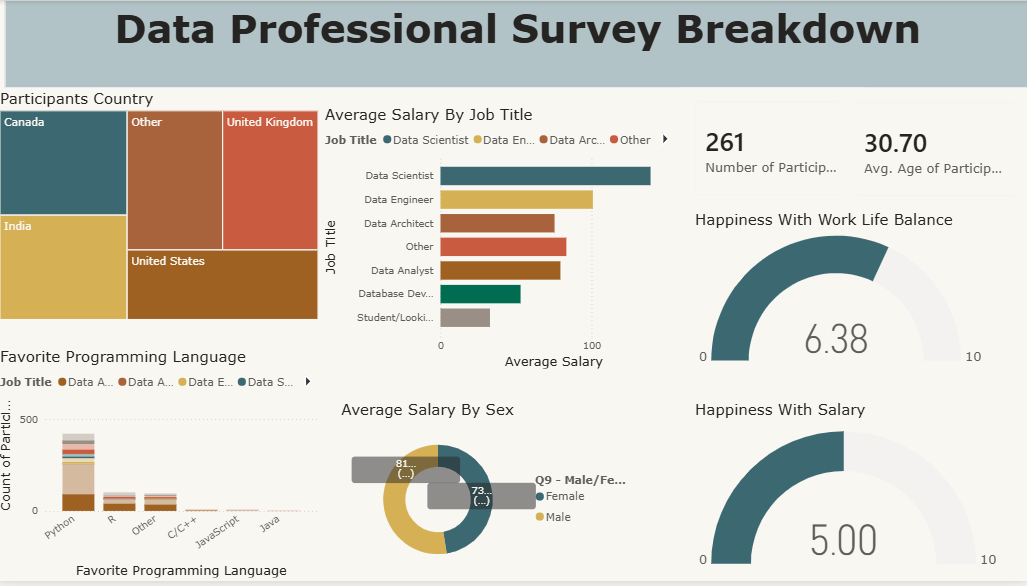

The page's visual inventory and layout, read from the dashboard file:
{"tool":"powerbi","page":{"name":"Page 1","canvas":[1280,720],"ordinal":0},"visuals":[{"type":"textbox","box":[10.2,0,1270.1,109.1],"z":0},{"type":"cardVisual","fields":{"Data":["Count(Data Professional Survey.Unique ID)"]},"box":[848.4,108.4,227.6,150.2],"z":1},{"type":"cardVisual","fields":{"Data":["Avg(Data Professional Survey.Q10 - Current Age)"]},"box":[1045,109.9,235.3,150.2],"z":2},{"type":"barChart","title":"Average Salary By Job Title","fields":{"Category":["Data Professional Survey.Q1 - Which Title Best Fits your Current Role?.1"],"Y":["Avg(Data Professional Survey.Average Salary)"],"Series":["Data Professional Survey.Q1 - Which Title Best Fits your Current Role?.1"]},"box":[402.5,130,445.9,331.3],"z":3},{"type":"columnChart","title":"Favorite Programming Language","fields":{"Category":["Data Professional Survey.Q5 - Favorite Programming Language.1"],"Y":["CountNonNull(Data Professional Survey.Unique ID)"],"Series":["Data Professional Survey.Q1 - Which Title Best Fits your Current Role?.1"]},"box":[0,430.4,402.5,289.5],"z":4},{"type":"treemap","title":"Participants Country","fields":{"Values":["Count(Data Professional Survey.Q11 - Which Country do you live in?.1)"],"Details":["Data Professional Survey.Q11 - Which Country do you live in?.1"]},"box":[0,109.9,404.1,291.1],"z":6},{"type":"gauge","title":"Happiness With Work Life Balance","fields":{"Y":["Avg(Data Professional Survey.Q6 - How Happy are you in your Current Position with the following? (Work/Life Balance))"],"MinValue":["Min(Data Professional Survey.Q6 - How Happy are you in your Current Position with the following? (Work/Life Balance))1"],"MaxValue":["Max(Data Professional Survey.Q6 - How Happy are you in your Current Position with the following? (Work/Life Balance))2"]},"box":[860.8,260.1,370,201.3],"z":7},{"type":"gauge","title":"Happiness With Salary","fields":{"Y":["Avg(Data Professional Survey.Q6 - How Happy are you in your Current Position with the following? (Salary))"],"MinValue":["Min(Data Professional Survey.Q6 - How Happy are you in your Current Position with the following? (Salary))"],"MaxValue":["Max(Data Professional Survey.Q6 - How Happy are you in your Current Position with the following? (Salary))"]},"box":[860.8,495.4,388.6,224.5],"z":8},{"type":"donutChart","title":"Average Salary By Sex","fields":{"Category":["Data Professional Survey.Q9 - Male/Female?"],"Y":["Avg(Data Professional Survey.Average Salary)"]},"box":[422.6,495.4,370,224.5],"z":9}]}

Visuals, with their boxes in screenshot pixels (x1, y1, x2, y2), scaled from the page's 1280x720 canvas onto the 1027x586 screenshot:
textbox: rect(8, 0, 1026, 89)
cardVisual - Count(Data Professional Survey.Unique ID): rect(681, 88, 863, 210)
cardVisual - Avg(Data Professional Survey.Q10 - Current Age): rect(838, 89, 1026, 212)
"Average Salary By Job Title" barChart: rect(323, 106, 681, 375)
"Favorite Programming Language" columnChart: rect(0, 350, 323, 585)
"Participants Country" treemap: rect(0, 89, 324, 326)
"Happiness With Work Life Balance" gauge: rect(691, 212, 988, 376)
"Happiness With Salary" gauge: rect(691, 403, 1002, 585)
"Average Salary By Sex" donutChart: rect(339, 403, 636, 585)
